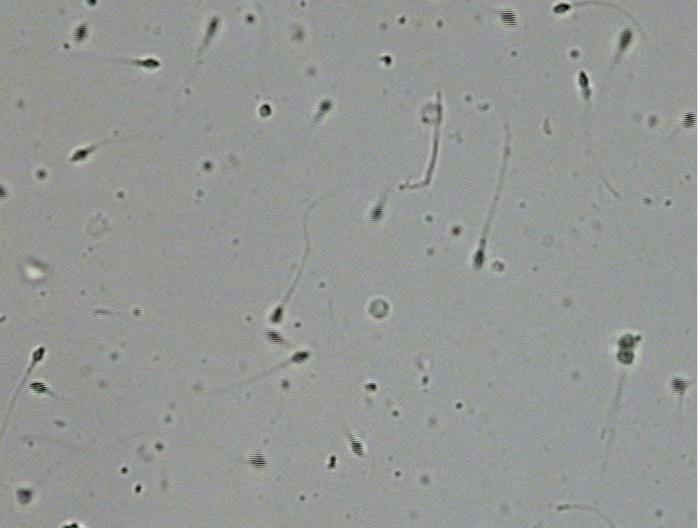Impurity: (368, 298, 390, 318)
S: (617, 333, 635, 365), (499, 9, 518, 28), (249, 451, 267, 470), (670, 377, 688, 395), (349, 439, 365, 456), (619, 29, 632, 49), (267, 329, 283, 345), (16, 489, 32, 505), (682, 112, 697, 129), (73, 25, 88, 41), (370, 205, 384, 222), (29, 381, 48, 393), (473, 250, 485, 269), (317, 99, 332, 114), (206, 18, 218, 36), (552, 3, 571, 14), (71, 149, 88, 161), (141, 58, 161, 68), (291, 351, 309, 362), (578, 71, 589, 89), (32, 347, 45, 362), (259, 103, 272, 117), (271, 307, 282, 323), (1, 185, 7, 198), (87, 1, 96, 6)
